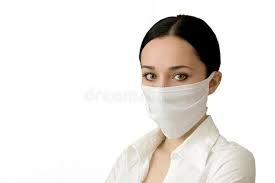with-mask: (135, 23, 223, 144)
